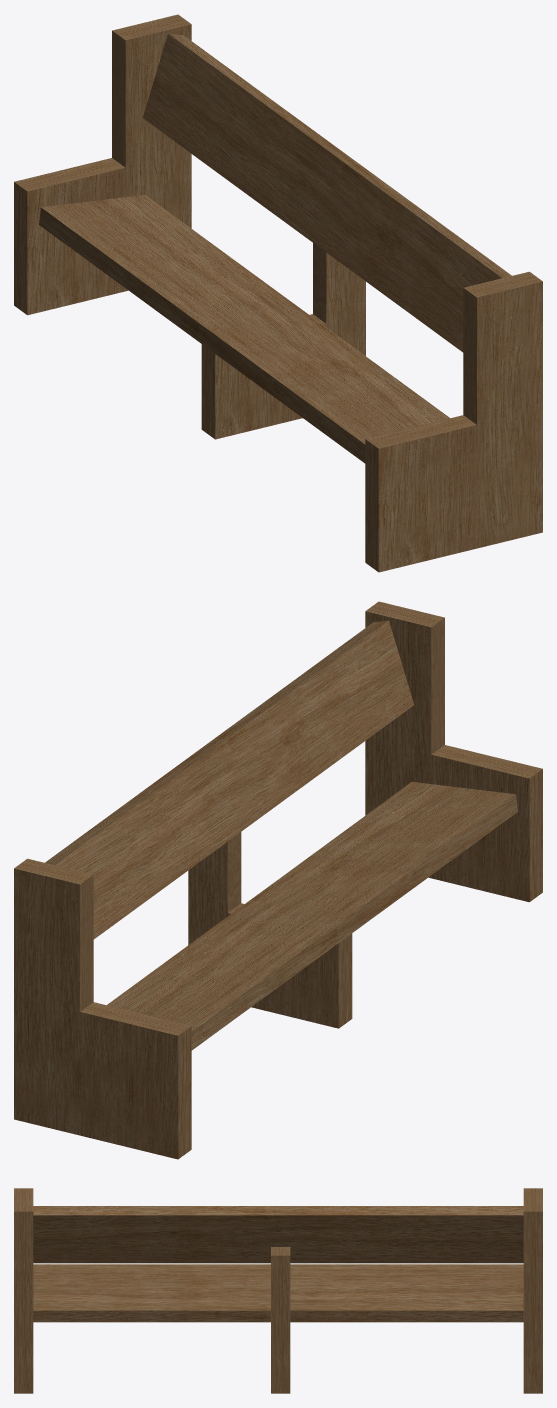
The model's file is ChurchBench.fbx.
The picture shows the model from 3 angles, top to bottom: view 1: azimuth 30°, elevation 25°; view 2: azimuth 150°, elevation 25°; view 3: azimuth 270°, elevation 25°; orthographic projection. The views are drawn at different scales.
Visible parts, largest first — view 1: Plane.012; view 2: Plane.012; view 3: Plane.012.
Boxes of the visible parts, <box> form: Plane.012: <box>14,14,542,572</box>; Plane.012: <box>14,601,542,1159</box>; Plane.012: <box>14,1188,542,1393</box>.
Size of the model in its own units: 189 by 276 by 726.
